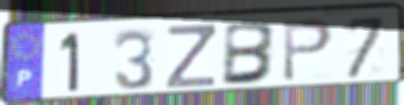1: (57, 32, 82, 94)
3: (111, 26, 156, 92)
7: (346, 14, 388, 79)
B: (220, 20, 280, 88)
P: (281, 16, 336, 84)
Z: (164, 23, 218, 91)
